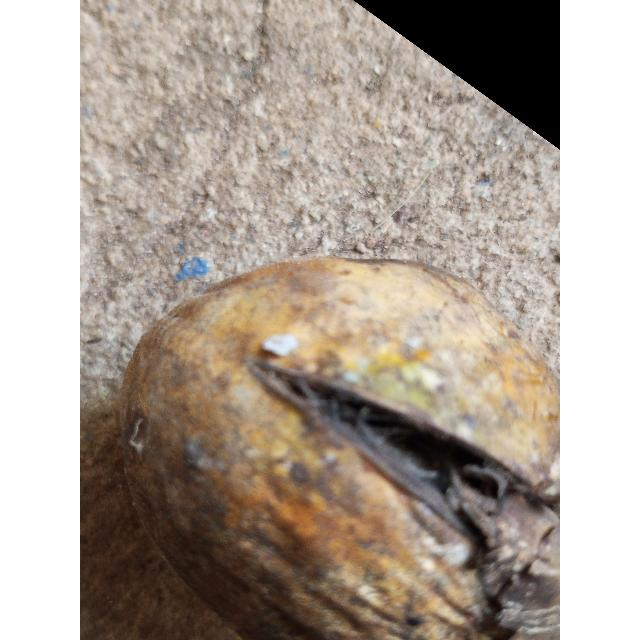damaged: (117, 255, 560, 640)
